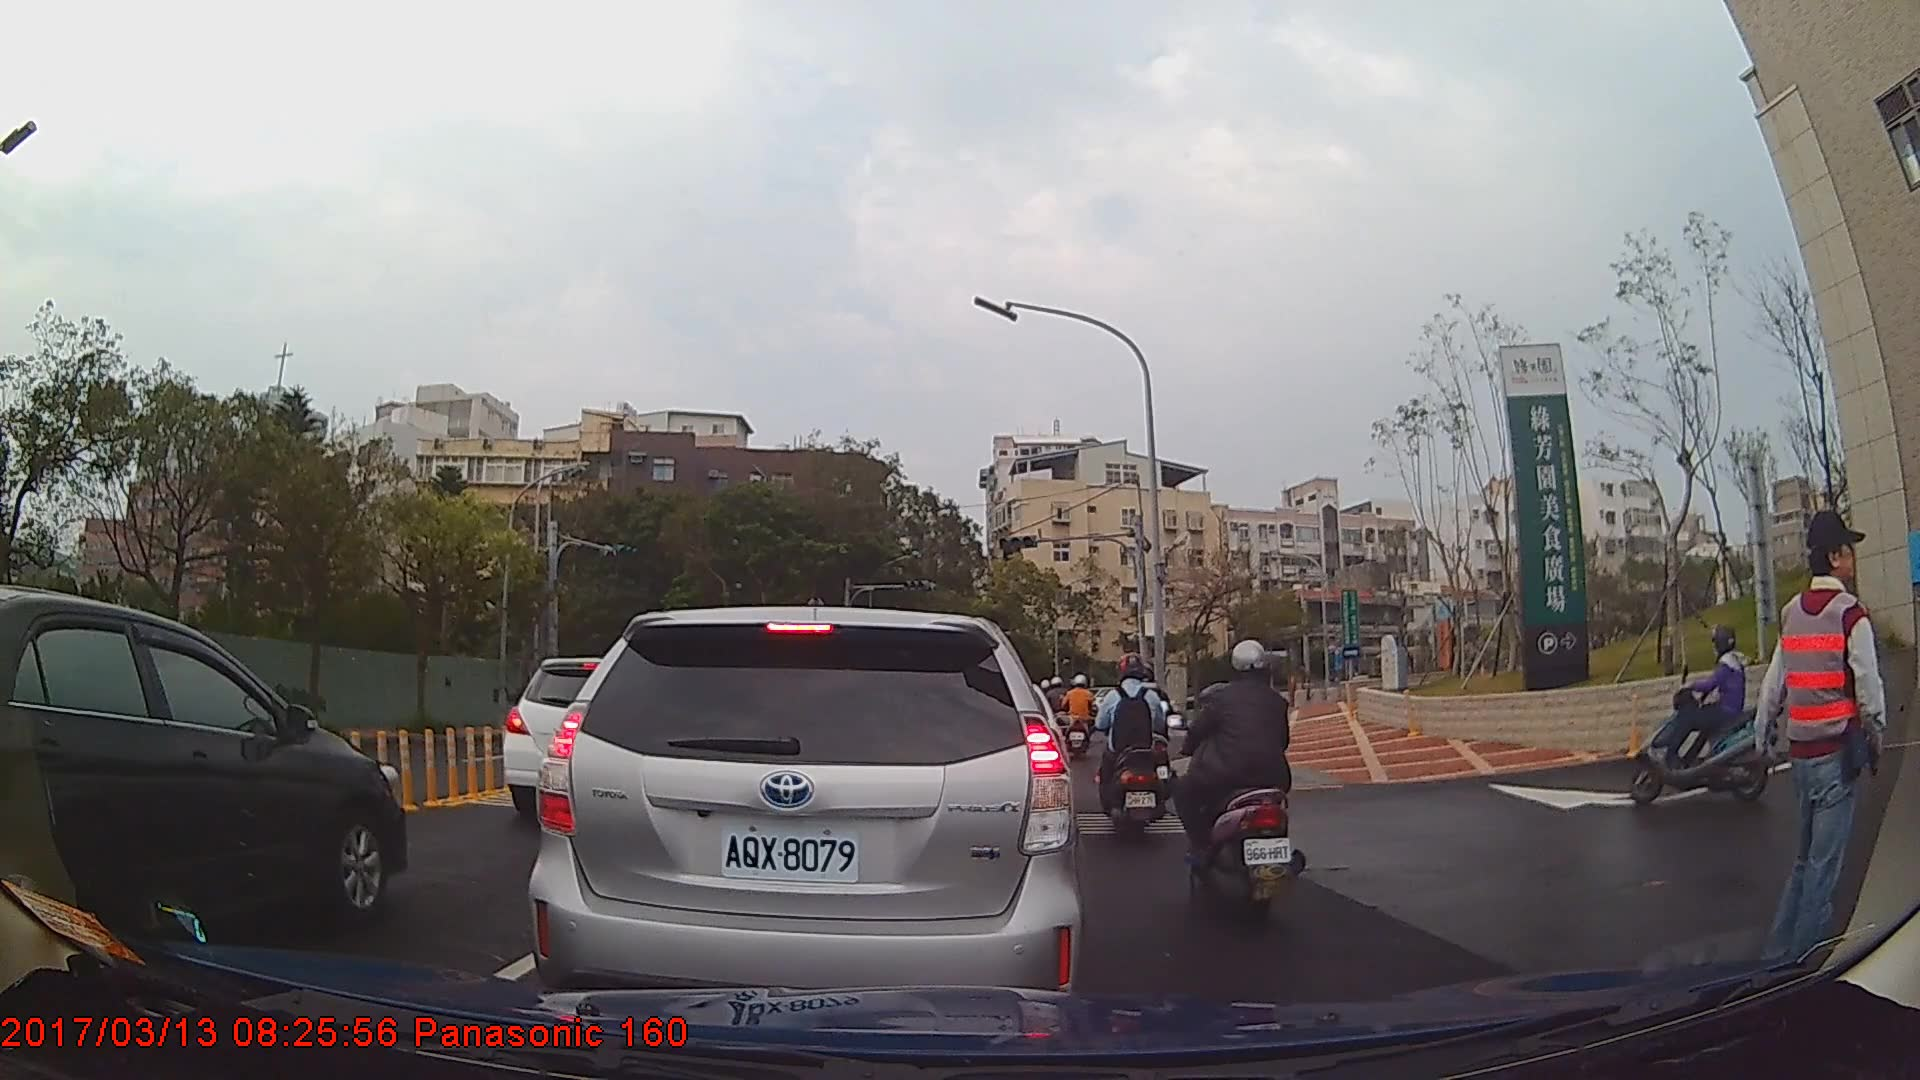pedestrian: (1760, 515, 1884, 987)
rider: (1173, 638, 1303, 926), (1626, 619, 1776, 805), (1100, 647, 1172, 842), (1063, 673, 1097, 755)
vehicle: (528, 601, 1081, 1041), (0, 581, 406, 942), (505, 658, 662, 817)
